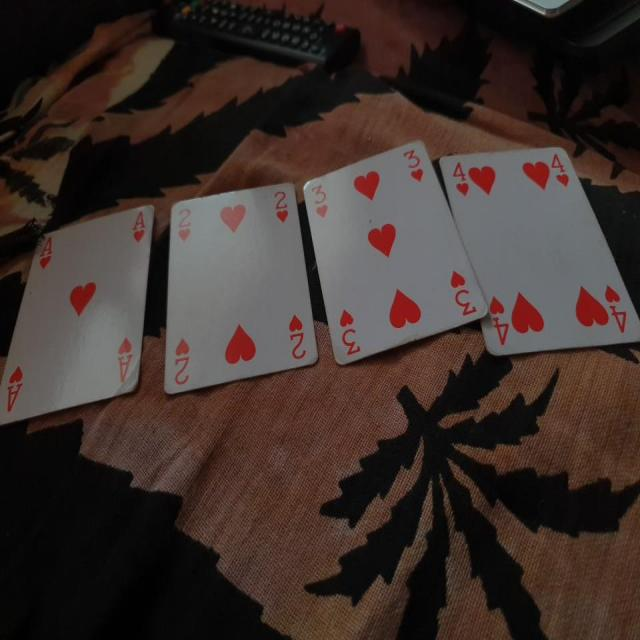2 Hearts: (156, 174, 318, 412)
3 Hearts: (299, 138, 495, 378)
4 Hearts: (436, 143, 640, 381)
A Hearts: (2, 197, 159, 434)
